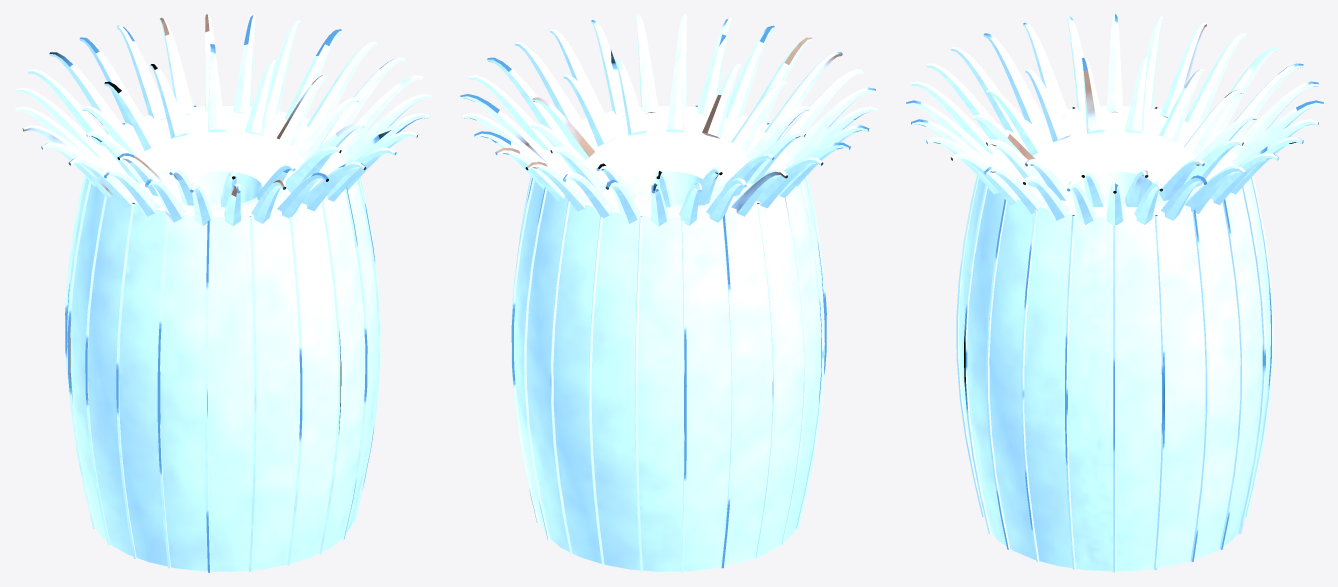
Rendered from actiniaria_deep.glb.
3 views of the same model, side by side, from view 1: azimuth 30°, elevation 25°; view 2: azimuth 150°, elevation 25°; view 3: azimuth 270°, elevation 25° (orthographic).
Visible parts, largest first — view 1: actiniaria_deep; view 2: actiniaria_deep; view 3: actiniaria_deep.
Part boxes in pixels (x1,y1,x2,y2): actiniaria_deep: [14, 14, 431, 572]; actiniaria_deep: [460, 14, 877, 572]; actiniaria_deep: [906, 14, 1323, 572].
Size of the model in its own units: 0.4481 by 0.4957 by 0.4481.
Materials: 1 (1 with a texture image).
